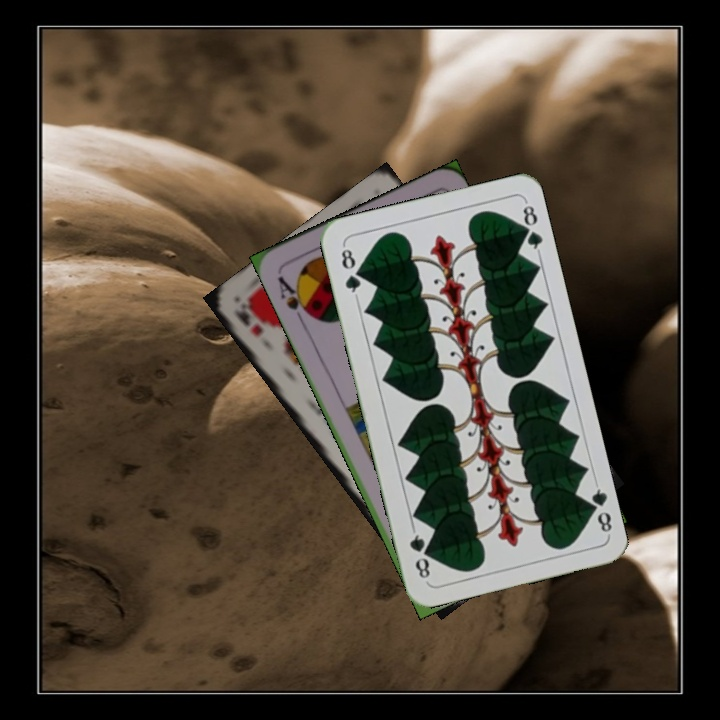G8: (581, 479, 615, 538), (337, 242, 364, 300)
HK: (230, 305, 267, 339)
SA: (273, 272, 315, 326)
